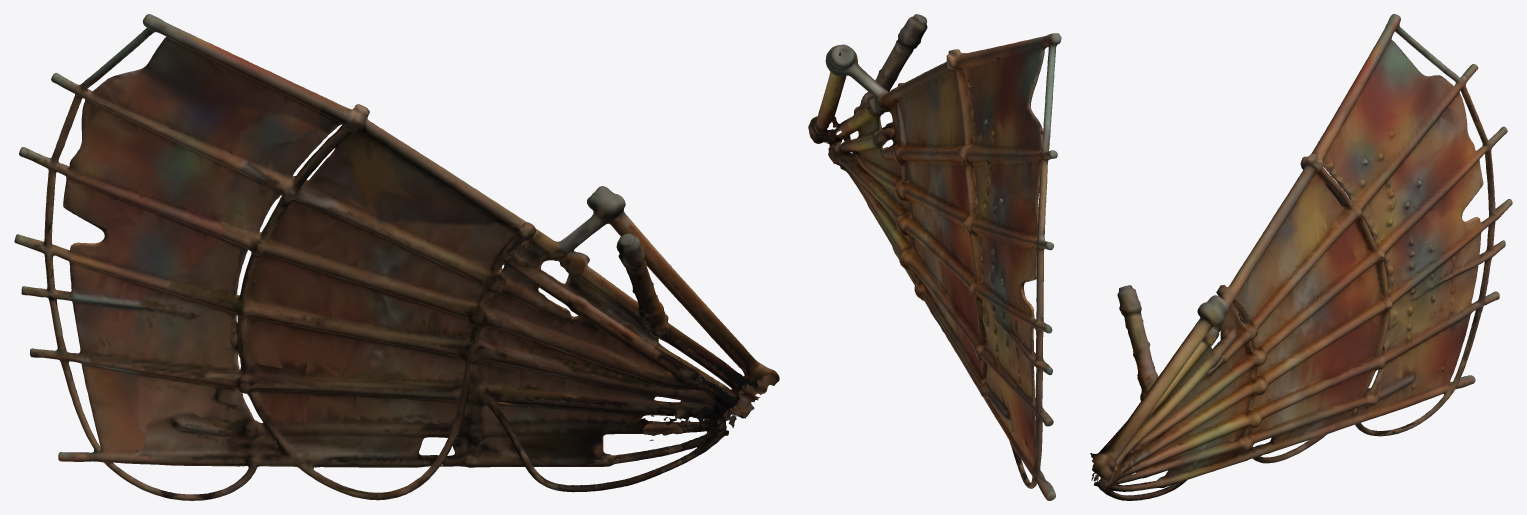
The model's file is ala1.obj.
3 views of the same model, side by side, from view 1: azimuth 30°, elevation 25°; view 2: azimuth 150°, elevation 25°; view 3: azimuth 270°, elevation 25° (orthographic). The views are drawn at different scales.
Parts seen in each view (by area): view 1: nave.001_Material.001; view 2: nave.001_Material.001; view 3: nave.001_Material.001.
Boxes of the visible parts, x1=… form: nave.001_Material.001: x1=14, y1=14, x2=779, y2=500; nave.001_Material.001: x1=808, y1=14, x2=1061, y2=500; nave.001_Material.001: x1=1090, y1=14, x2=1512, y2=500.
Bounding box in the file's own units: 0.7965 × 0.7304 × 0.6894.
